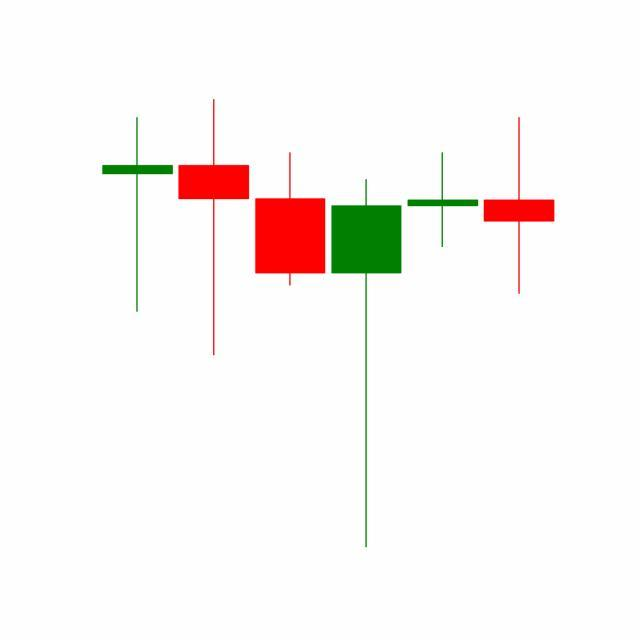Spinning Top: (404, 152, 482, 250)
